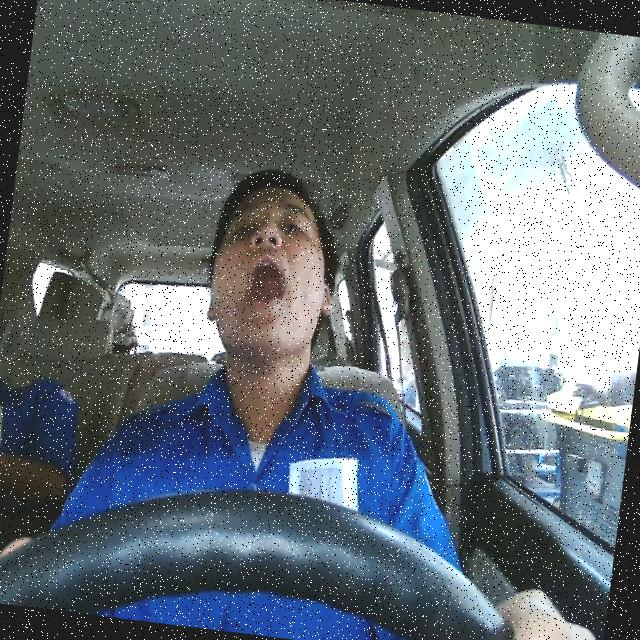yarning: (200, 176, 346, 364)
